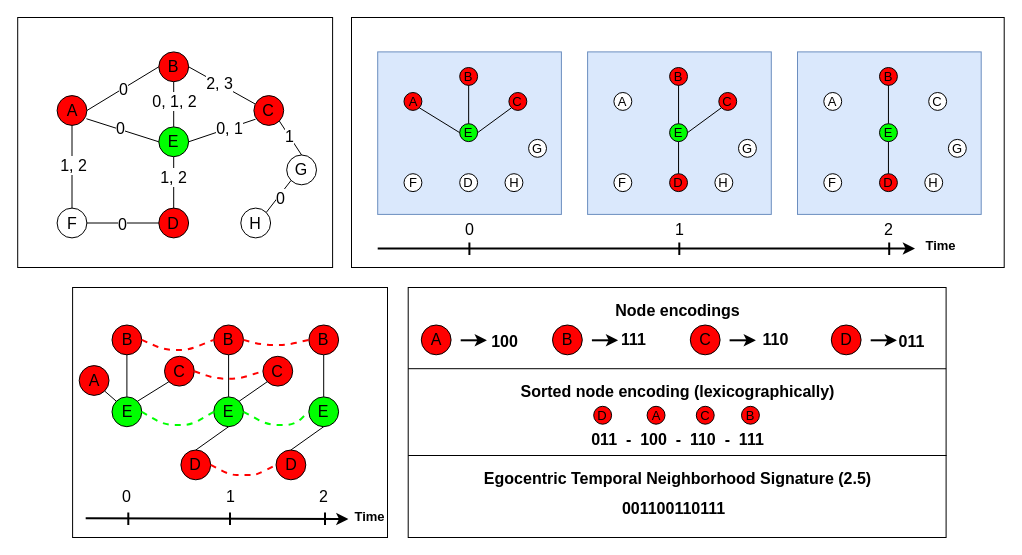
This 1022x555 diagram has some shape labels left out. The shapes that lost their labels are listed below. From the top down, each one's box as (x1, y1, x2, y2) in pixels, then its label:
(17, 16, 333, 268): Temporal graph (2.2)
(350, 16, 1004, 268): Temporal graph snapshots (2.3)
(72, 286, 388, 538): Egocentric Temporal Neighborhood (2.4)
